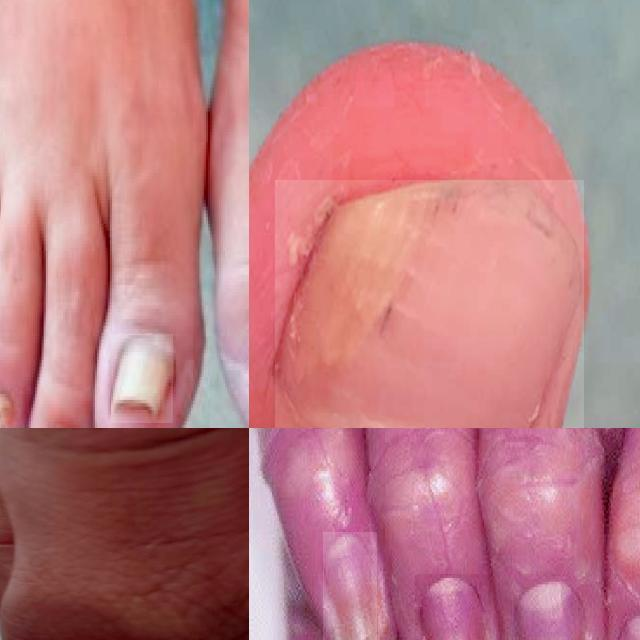diabetes: (275, 180, 584, 428), (323, 533, 377, 640), (112, 334, 173, 423), (415, 575, 484, 640), (515, 582, 586, 640)
